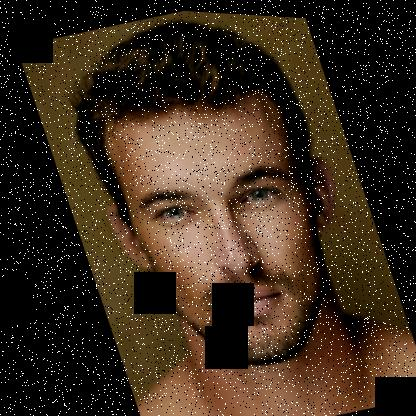Male: (73, 67, 384, 392)
